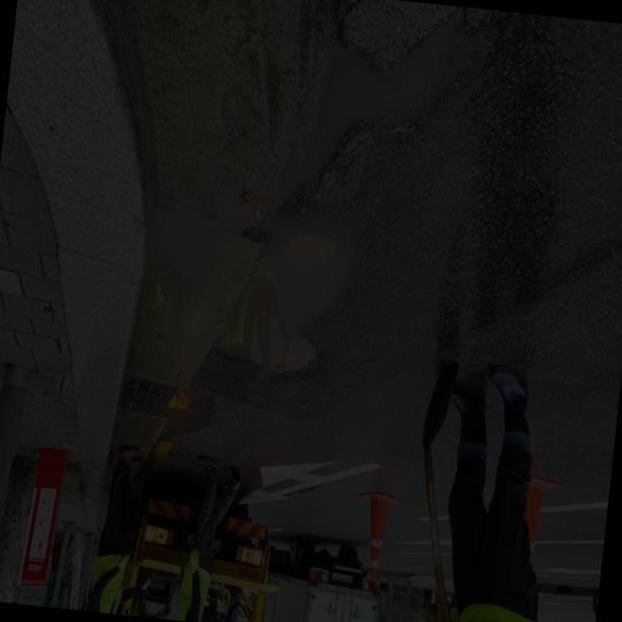pothole: (199, 176, 356, 425)
